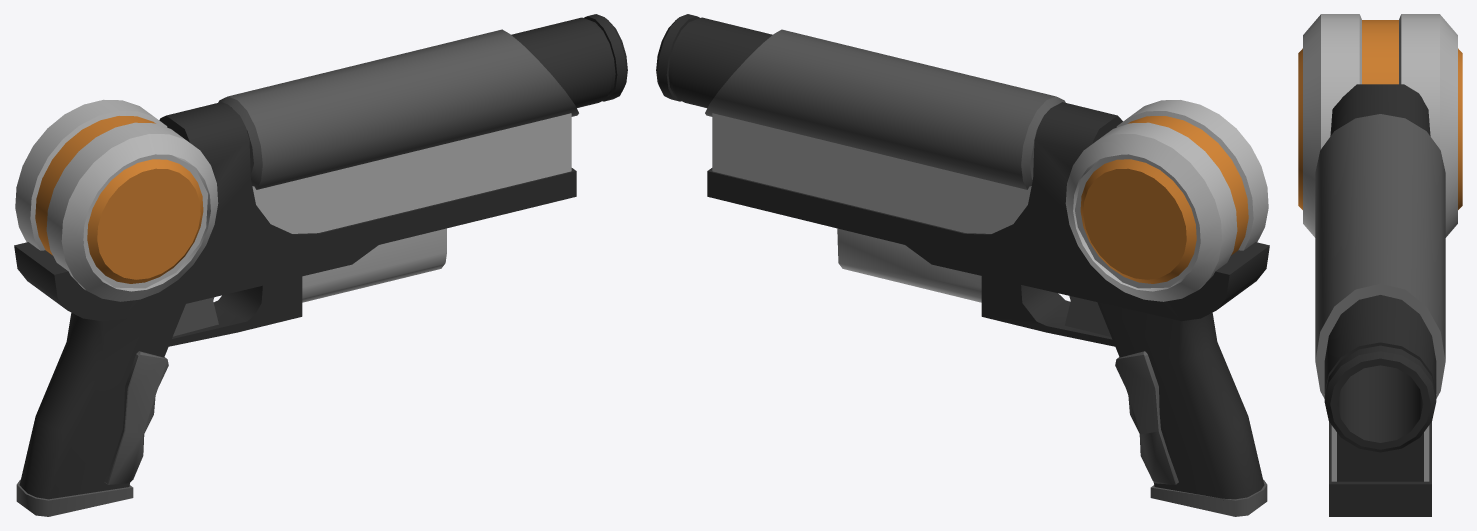
File: g_pistol.glb
The picture shows the model from 3 angles, left to right: view 1: azimuth 30°, elevation 25°; view 2: azimuth 150°, elevation 25°; view 3: azimuth 270°, elevation 25°; orthographic projection. The views are drawn at different scales.
Parts seen in each view (by area): view 1: Pistol_1; view 2: Pistol_1; view 3: Pistol_1.
Part boxes in pixels (x1,y1,x2,y2): Pistol_1: [14, 14, 627, 516]; Pistol_1: [656, 14, 1269, 516]; Pistol_1: [1298, 14, 1462, 516].
Bounding box in the file's own units: 0.9344 × 0.5605 × 0.1782.
